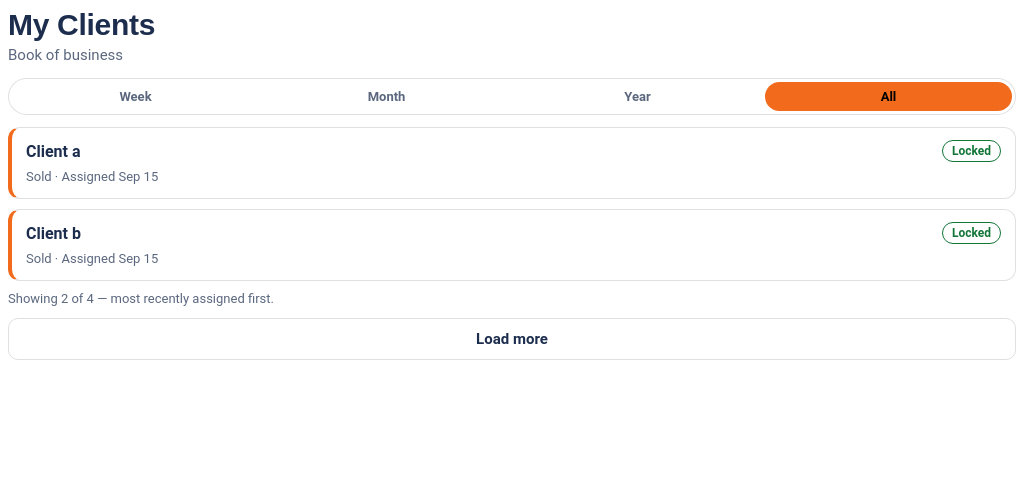
Canvass-5 — paging the list › ⚠ Load more APPENDS the next page rather than replacing it
Expected: the text "Client a" is shown, top-left (26, 142), bottom-right (80, 160)
Expected: the text "Client c" is not shown
Click the button "Load more" at (512, 339), box top-left (8, 318), bottom-right (1016, 360)
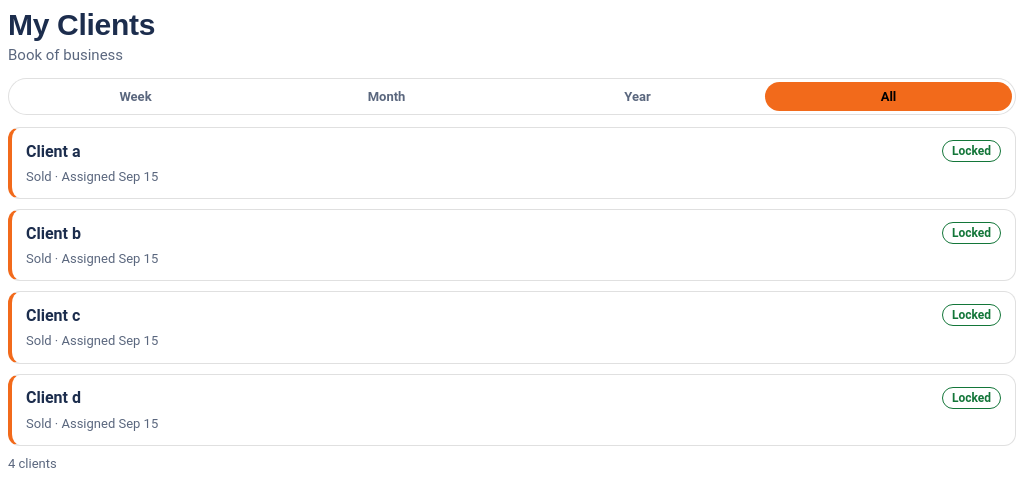
Expected: the text "Client a" is shown, top-left (26, 142), bottom-right (80, 160)
Result: the text "Client c" is shown at top-left (26, 306), bottom-right (80, 325)
Result: the text "Client d" is shown at top-left (26, 388), bottom-right (81, 407)
